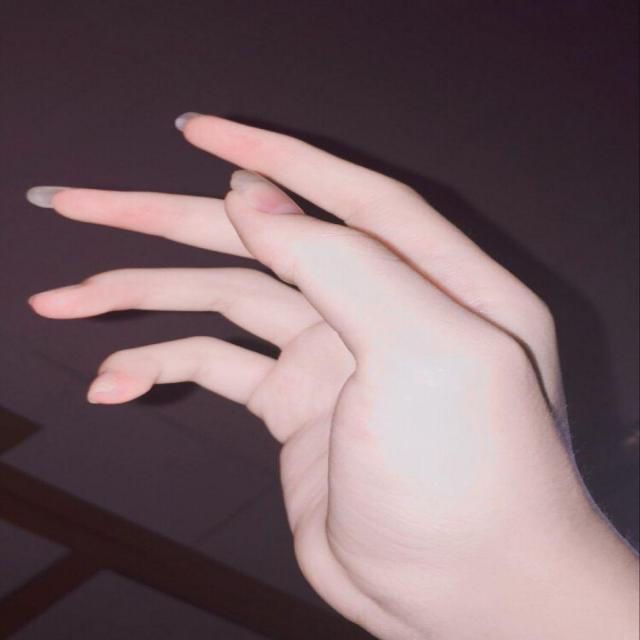hand: (24, 110, 634, 638)
